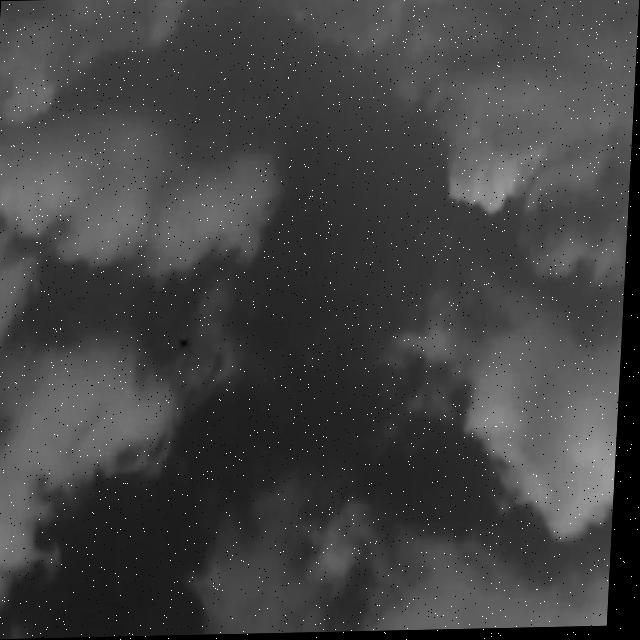drone: (178, 335, 198, 358)
